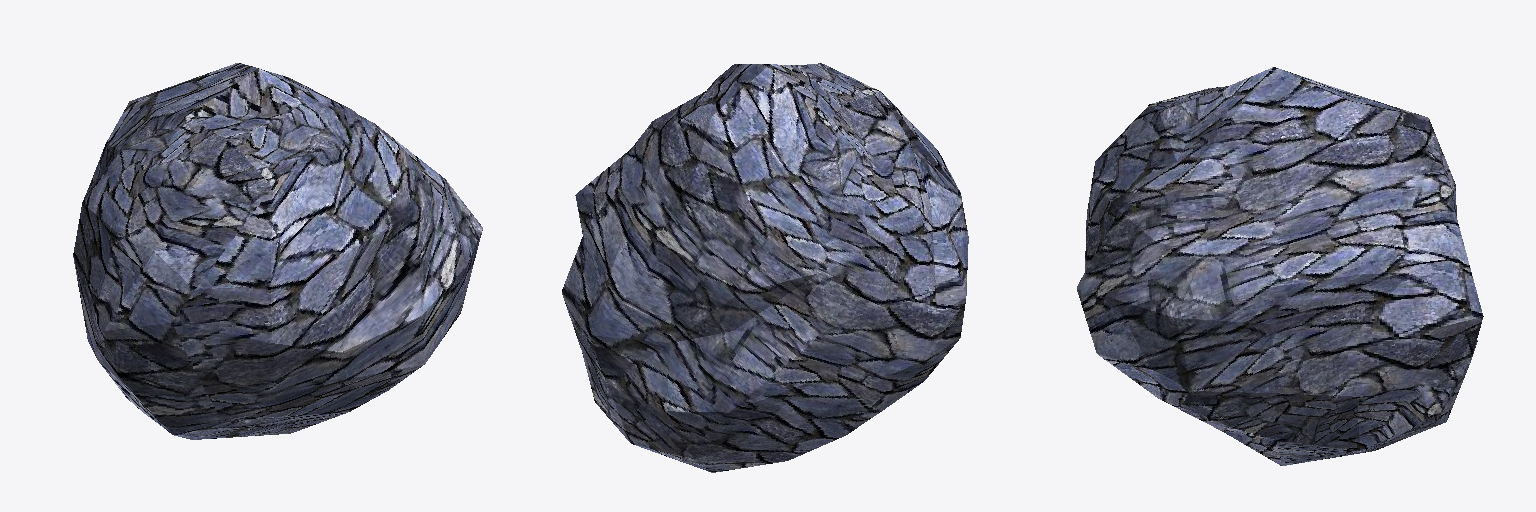
3 views of the same model, side by side, from view 1: azimuth 30°, elevation 25°; view 2: azimuth 150°, elevation 25°; view 3: azimuth 270°, elevation 25° (orthographic).
Visible parts, largest first — view 1: Cube; view 2: Cube; view 3: Cube.
Boxes of the visible parts, x1,y1,x2,y2 form: Cube: [73, 63, 482, 439]; Cube: [562, 63, 968, 472]; Cube: [1077, 67, 1483, 465].
Size of the model in its own units: 3.57 by 3.69 by 3.59.
Materials: 1 (1 with a texture image).